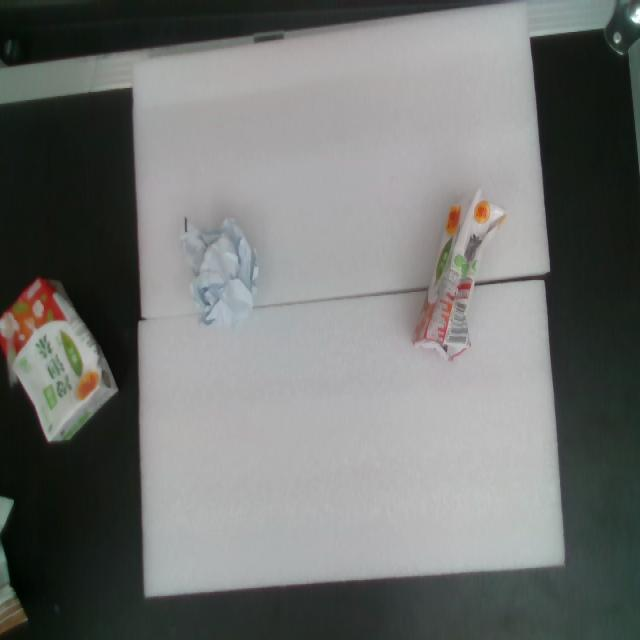juicebox: (0, 252, 148, 465), (400, 182, 515, 375)
paper: (171, 196, 270, 341)
